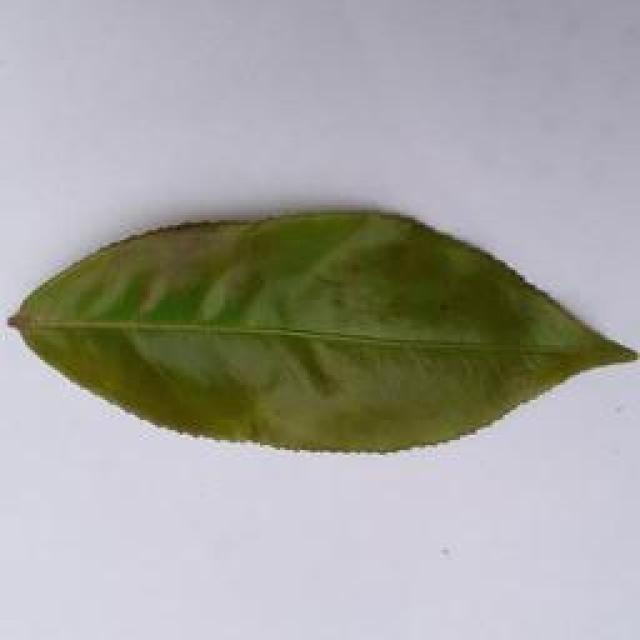Red Leaf Spot: (0, 197, 640, 478)
